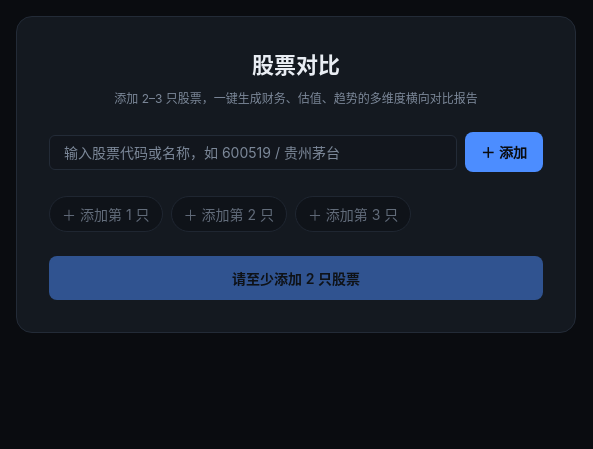
Test: ComparisonView 提交与加载 › 点击对比：按钮变「分析中...」并禁用，出现「取消对比」与耗时提示
This screenshot has width=593, height=449.
Type "600519" into the dropdown named "对比股票搜索" at (253, 152), box [49,134,457,170]
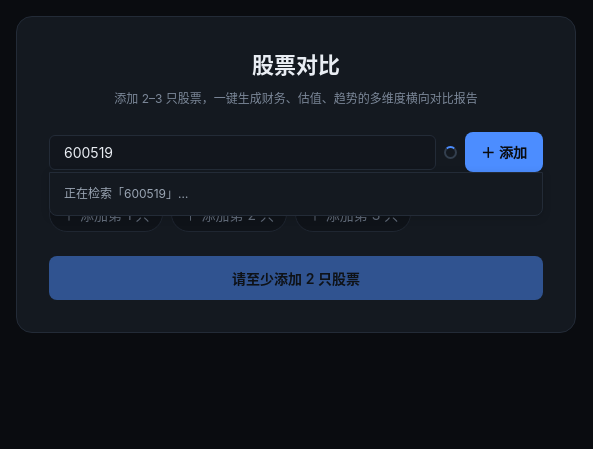
Press Enter in the dropdown named "对比股票搜索", box [49,134,436,170]
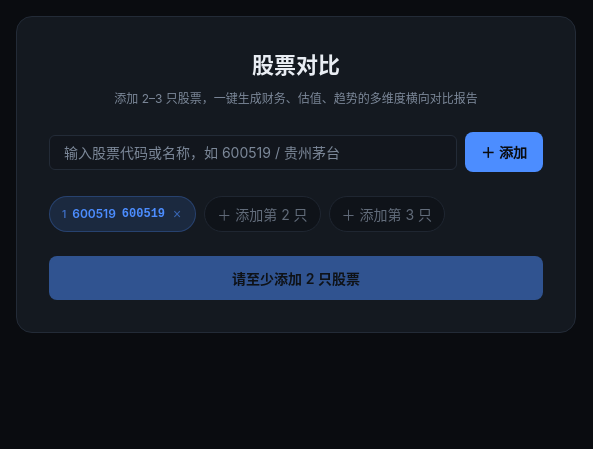
Type "000858" into the dropdown named "对比股票搜索" at (253, 152), box [49,134,457,170]
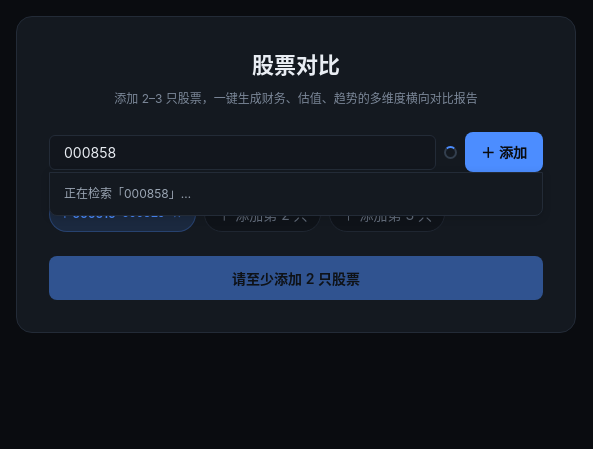
Press Enter in the dropdown named "对比股票搜索", box [49,134,436,170]
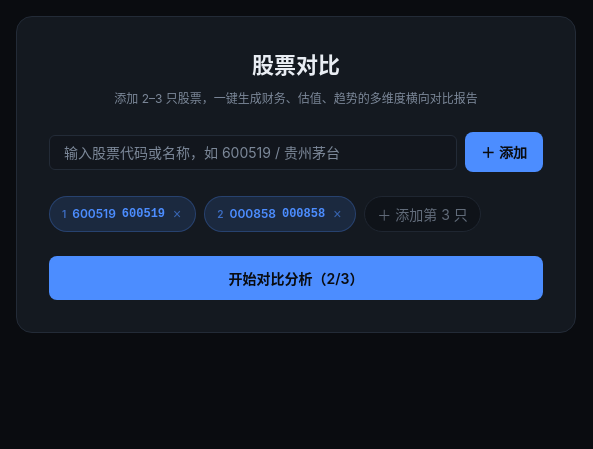
Click the button "开始对比分析（2/3）" at (296, 278), box [49,256,543,300]
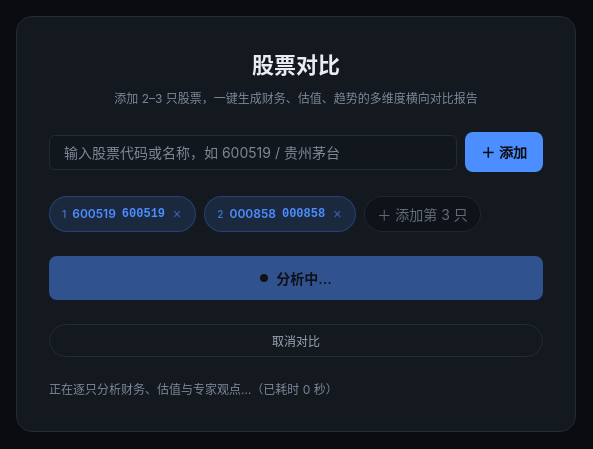
Now the button "分析中..." is disabled, box [49,256,543,300]
Now the button "取消对比" is shown, box [49,324,543,357]
Now the text "正在逐只分析财务、估值与专家观点…（已耗时 0 秒）" is shown, box [49,382,338,397]
